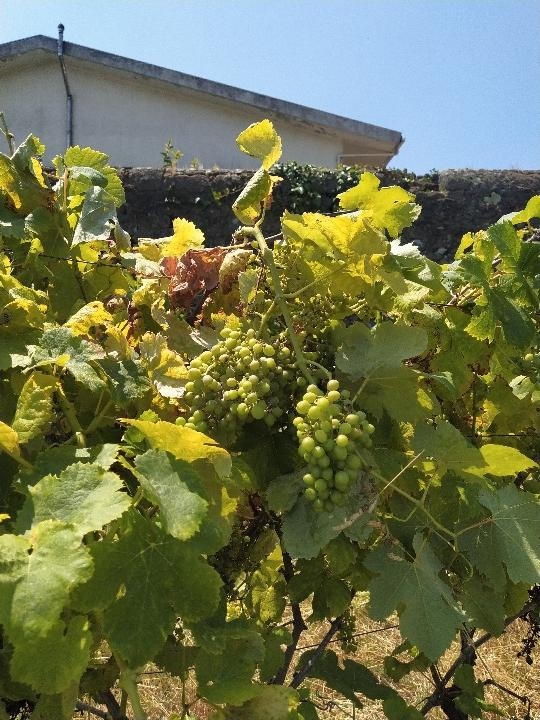grape: (172, 324, 297, 438), (291, 378, 377, 517)
